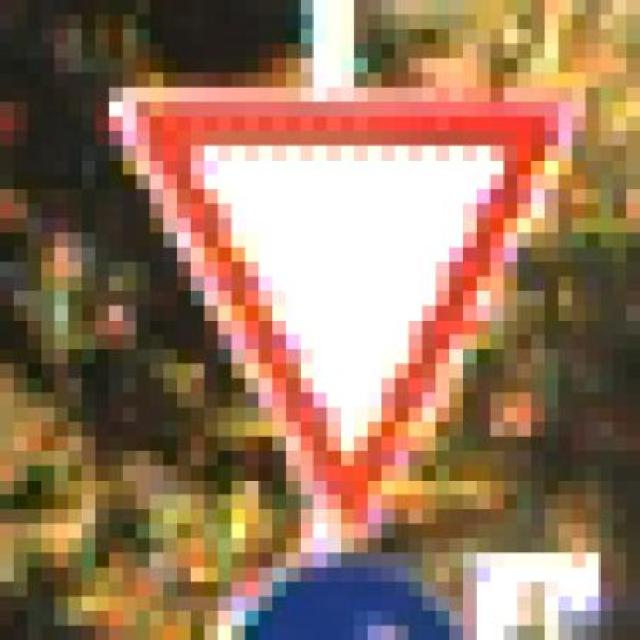Give Way: (95, 59, 572, 568)
